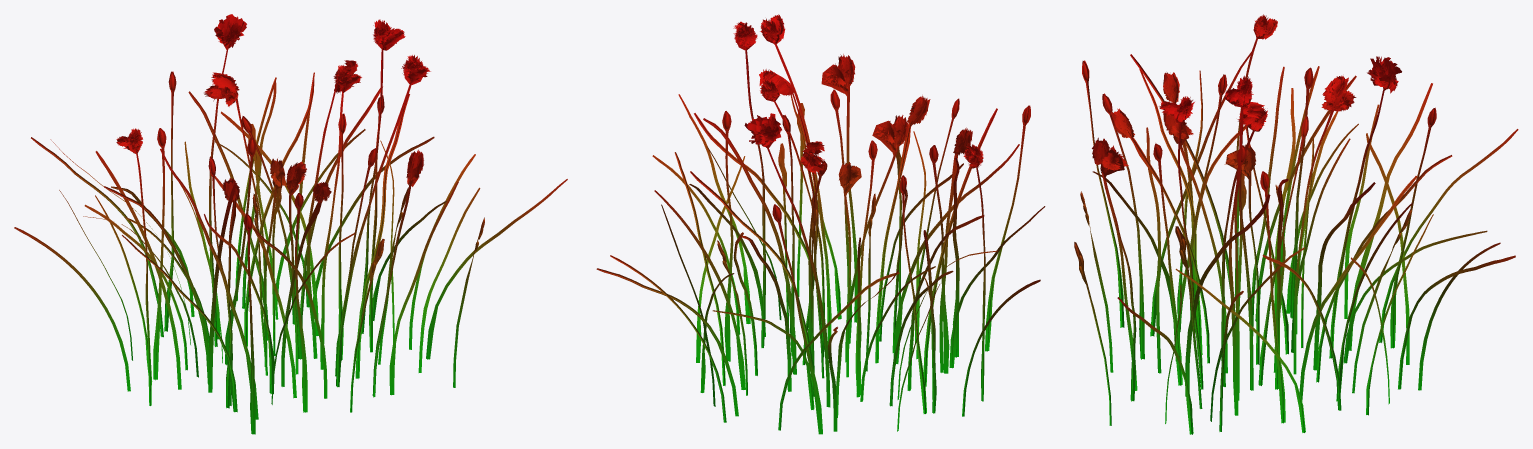
File: Var1_LOD0.fbx
3 renders of one model, left to right at view 1: azimuth 30°, elevation 25°; view 2: azimuth 150°, elevation 25°; view 3: azimuth 270°, elevation 25°, orthographic. The views are drawn at different scales.
Visible parts, largest first — view 1: _3v9p_Var1_LOD0; view 2: _3v9p_Var1_LOD0; view 3: _3v9p_Var1_LOD0.
Boxes of the visible parts, box(x1,y1,x2,y2) form: _3v9p_Var1_LOD0: box(14, 14, 567, 434); _3v9p_Var1_LOD0: box(596, 14, 1045, 434); _3v9p_Var1_LOD0: box(1074, 14, 1518, 434).
Size of the model in its own units: 35.46 by 24.15 by 28.01.
